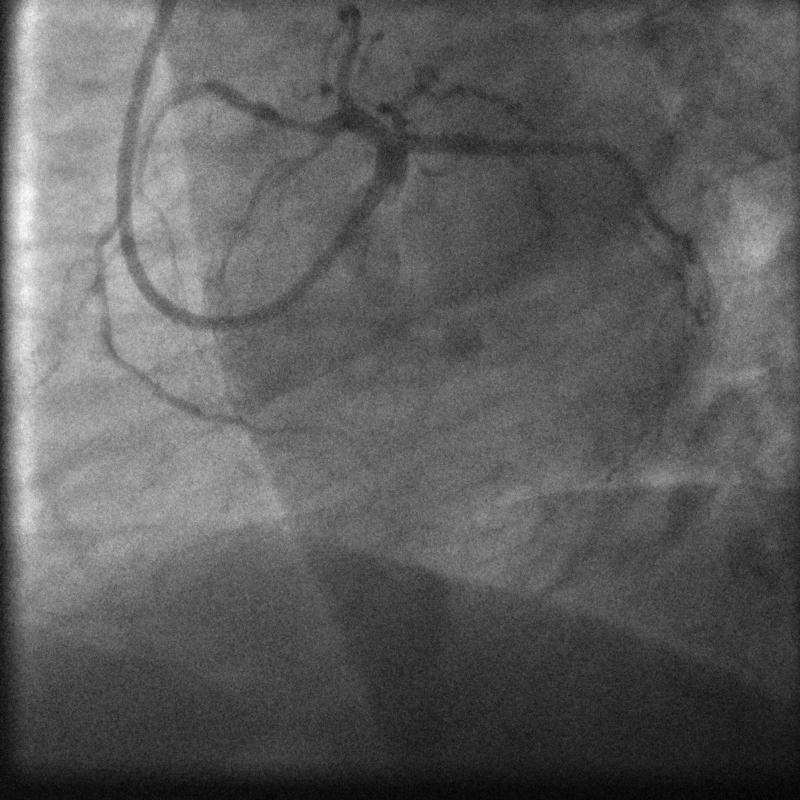Stenosis: (265, 94, 333, 138)
